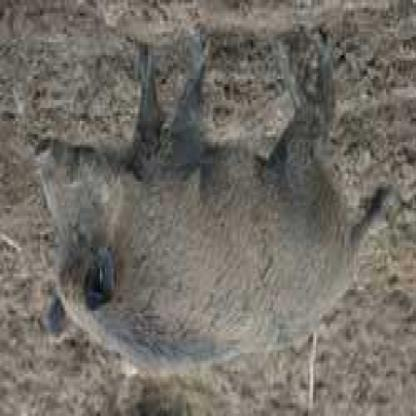boar: (34, 27, 392, 366)
